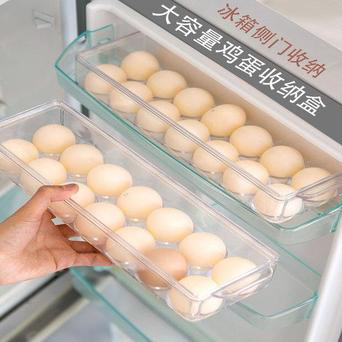egg: (1, 124, 262, 313), (84, 47, 335, 215)
